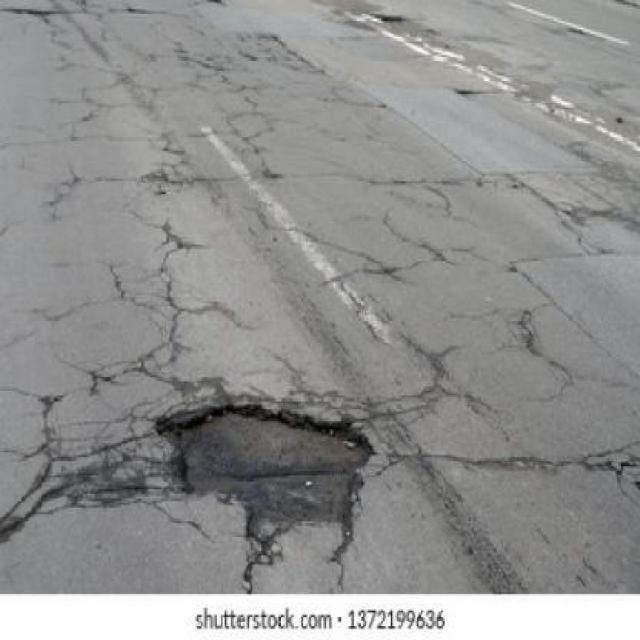Buraco: (150, 402, 378, 541)
